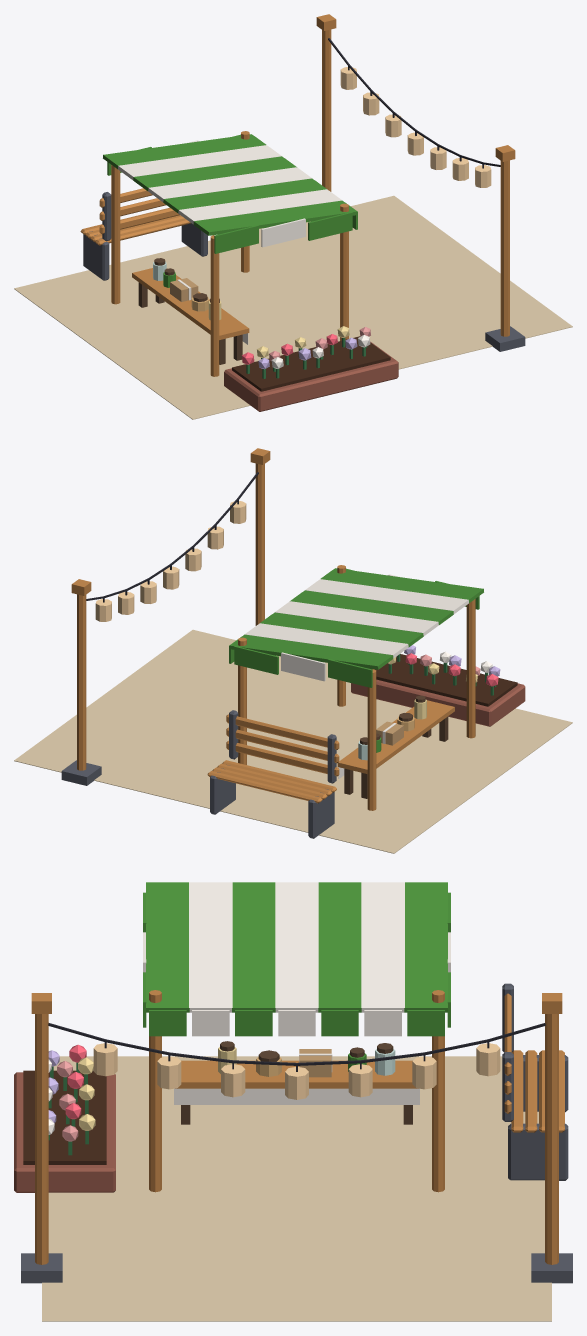
The model's file is CatCafe_Camp_Park_Growth.glb.
3 renders of one model, top to bottom at view 1: azimuth 30°, elevation 25°; view 2: azimuth 150°, elevation 25°; view 3: azimuth 270°, elevation 25°, orthographic. The views are drawn at different scales.
Parts seen in each view (by area): view 1: CatCafe_Camp_Park_Growth, CatCafe_Camp_Park_Growth_000_Stall, CatCafe_Camp_Park_Growth_002_FlowerBed, CatCafe_Camp_Park_Growth_001_Lanterns, CatCafe_Camp_Park_Growth_003_Bench, CatCafe_Camp_Park_Growth_001_Lanterns_Bulbs, CatCafe_Camp_Park_Growth_002_FlowerBed_Decor, CatCafe_Camp_Park_Growth_000_Stall_Decor, CatCafe_Camp_Park_Growth_001_Lanterns_Decor; view 2: CatCafe_Camp_Park_Growth, CatCafe_Camp_Park_Growth_000_Stall, CatCafe_Camp_Park_Growth_003_Bench, CatCafe_Camp_Park_Growth_002_FlowerBed, CatCafe_Camp_Park_Growth_001_Lanterns, CatCafe_Camp_Park_Growth_001_Lanterns_Bulbs, CatCafe_Camp_Park_Growth_002_FlowerBed_Decor, CatCafe_Camp_Park_Growth_000_Stall_Decor, CatCafe_Camp_Park_Growth_001_Lanterns_Decor; view 3: CatCafe_Camp_Park_Growth, CatCafe_Camp_Park_Growth_000_Stall, CatCafe_Camp_Park_Growth_001_Lanterns, CatCafe_Camp_Park_Growth_002_FlowerBed, CatCafe_Camp_Park_Growth_003_Bench, CatCafe_Camp_Park_Growth_001_Lanterns_Bulbs, CatCafe_Camp_Park_Growth_002_FlowerBed_Decor, CatCafe_Camp_Park_Growth_000_Stall_Decor, CatCafe_Camp_Park_Growth_001_Lanterns_Decor.
Boxes of the visible parts, <box> form: CatCafe_Camp_Park_Growth: <box>14,195,572,419</box>; CatCafe_Camp_Park_Growth_000_Stall: <box>103,131,357,376</box>; CatCafe_Camp_Park_Growth_002_FlowerBed: <box>224,336,398,411</box>; CatCafe_Camp_Park_Growth_001_Lanterns: <box>316,14,525,351</box>; CatCafe_Camp_Park_Growth_003_Bench: <box>80,188,207,280</box>; CatCafe_Camp_Park_Growth_001_Lanterns_Bulbs: <box>340,67,491,187</box>; CatCafe_Camp_Park_Growth_002_FlowerBed_Decor: <box>241,326,370,378</box>; CatCafe_Camp_Park_Growth_000_Stall_Decor: <box>153,258,221,320</box>; CatCafe_Camp_Park_Growth_001_Lanterns_Decor: <box>328,38,500,168</box>; CatCafe_Camp_Park_Growth: <box>14,629,572,853</box>; CatCafe_Camp_Park_Growth_000_Stall: <box>229,565,483,810</box>; CatCafe_Camp_Park_Growth_003_Bench: <box>207,710,339,838</box>; CatCafe_Camp_Park_Growth_002_FlowerBed: <box>351,654,525,726</box>; CatCafe_Camp_Park_Growth_001_Lanterns: <box>61,448,270,785</box>; CatCafe_Camp_Park_Growth_001_Lanterns_Bulbs: <box>95,501,246,621</box>; CatCafe_Camp_Park_Growth_002_FlowerBed_Decor: <box>388,645,500,695</box>; CatCafe_Camp_Park_Growth_000_Stall_Decor: <box>358,695,426,760</box>; CatCafe_Camp_Park_Growth_001_Lanterns_Decor: <box>86,472,258,602</box>; CatCafe_Camp_Park_Growth: <box>42,1056,551,1321</box>; CatCafe_Camp_Park_Growth_000_Stall: <box>143,882,450,1192</box>; CatCafe_Camp_Park_Growth_001_Lanterns: <box>21,993,572,1283</box>; CatCafe_Camp_Park_Growth_002_FlowerBed: <box>14,1070,115,1192</box>; CatCafe_Camp_Park_Growth_003_Bench: <box>502,983,568,1180</box>; CatCafe_Camp_Park_Growth_001_Lanterns_Bulbs: <box>93,1043,500,1099</box>; CatCafe_Camp_Park_Growth_002_FlowerBed_Decor: <box>48,1044,95,1155</box>; CatCafe_Camp_Park_Growth_000_Stall_Decor: <box>218,1041,395,1077</box>; CatCafe_Camp_Park_Growth_001_Lanterns_Decor: <box>48,1023,545,1071</box>.
Size of the model in its own units: 13.5 by 6.6 by 12.05.
Materials: 1 (1 with a texture image).
